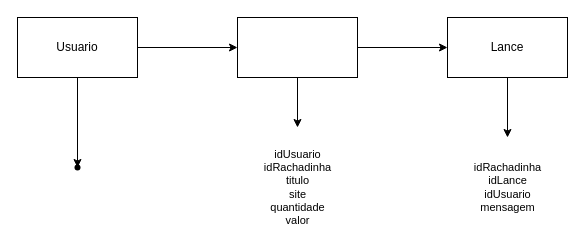
Image size: 585x244. Some labels were removed from this diagram. The box of each missing label's shape, as (x1, y1, x2, y2) in pixels:
id nome email senha: (66, 156, 88, 178)
Rachadinha: (236, 16, 358, 78)
